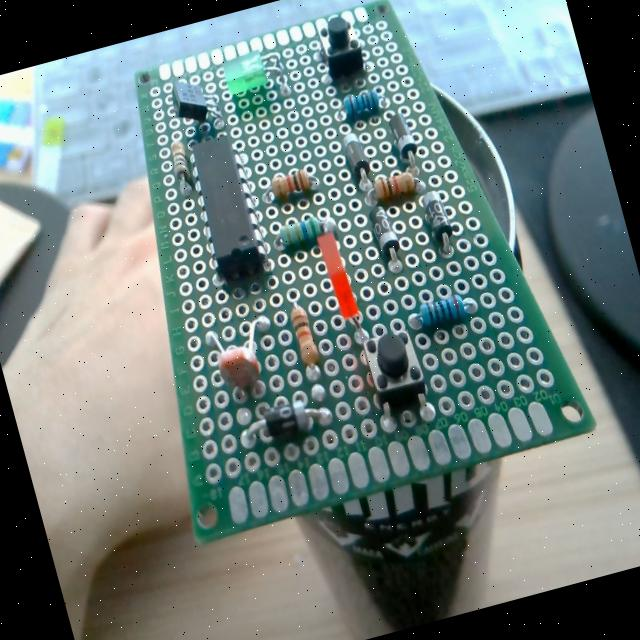IC: (184, 134, 268, 285)
cds: (198, 306, 288, 400)
diode: (238, 393, 334, 450), (366, 202, 406, 276), (419, 187, 456, 249), (386, 109, 420, 167), (339, 129, 372, 182)
led: (314, 228, 376, 372), (221, 46, 290, 109)
resistor: (409, 290, 474, 332), (286, 299, 322, 368), (268, 166, 314, 202), (340, 86, 384, 122), (372, 169, 418, 203), (278, 215, 324, 248), (166, 139, 194, 187)
switch: (359, 324, 429, 414), (313, 11, 365, 80)
transistor: (166, 72, 222, 140)
